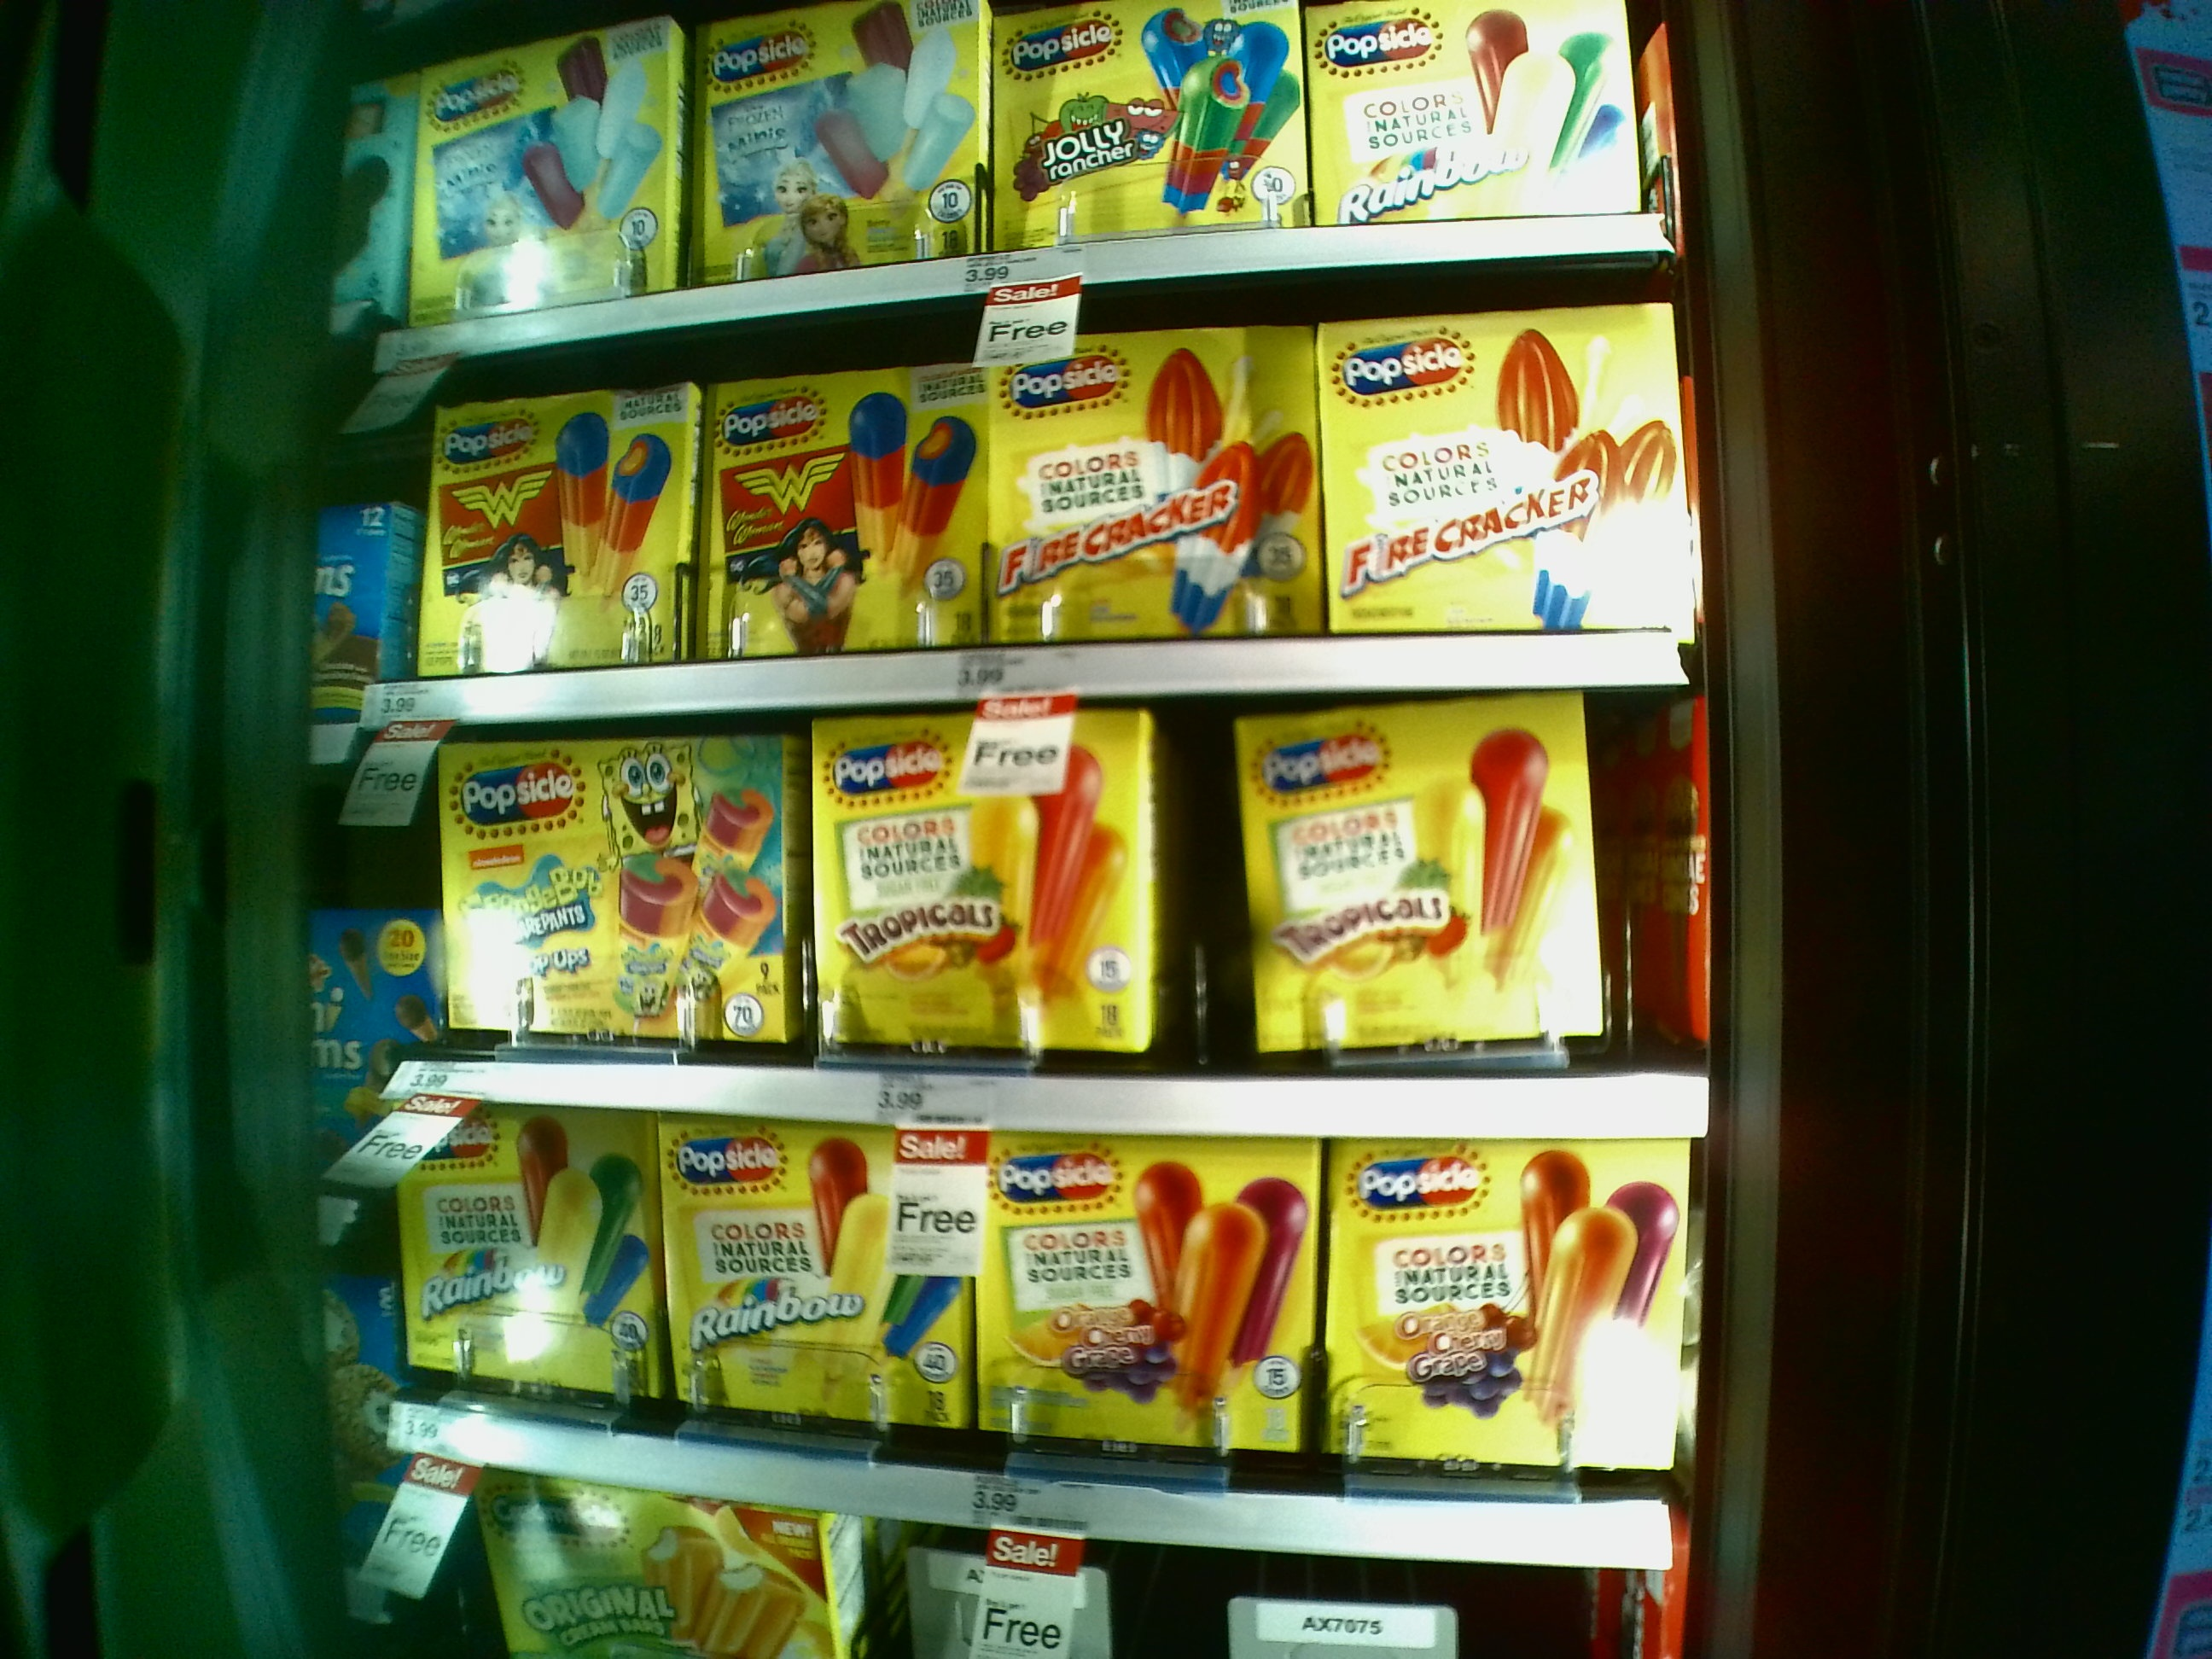shelf: (366, 676, 1717, 1133), (399, 1126, 1688, 1539), (388, 291, 1684, 653)
